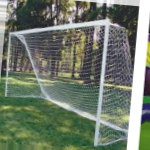goals: (4, 16, 126, 146)
